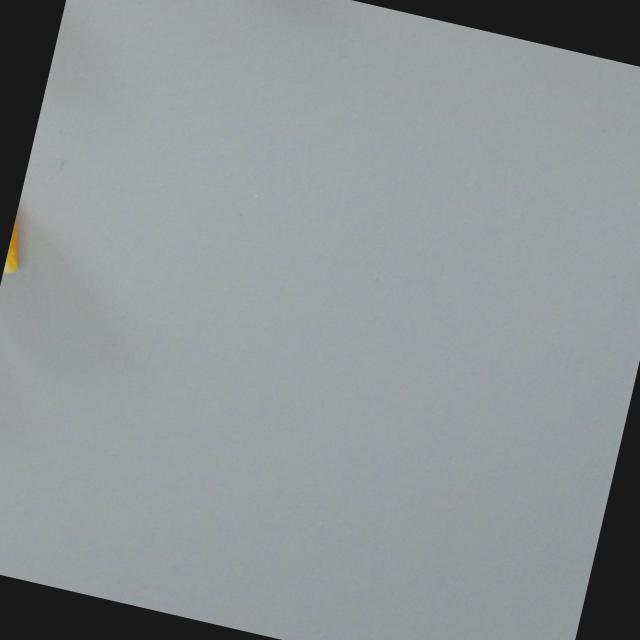pelicula: (0, 185, 38, 302)
